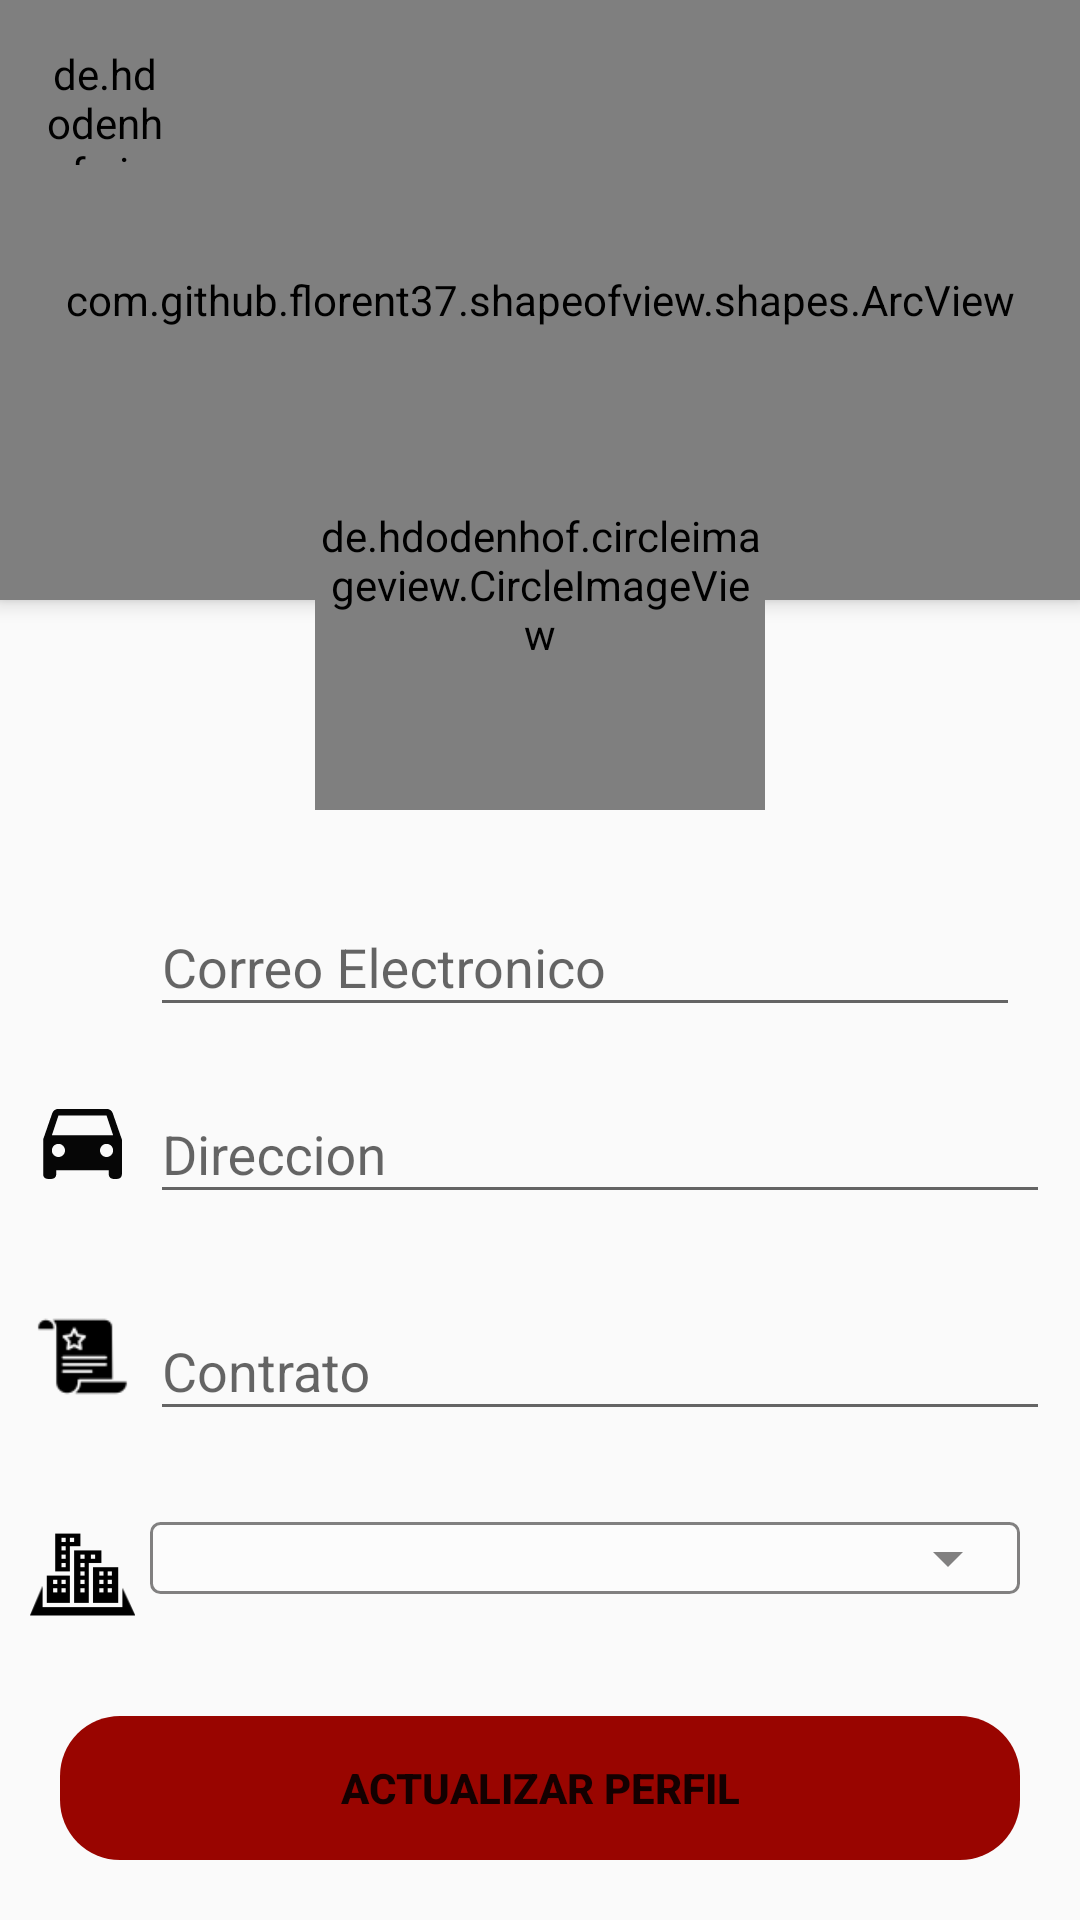

Where icons sit on this 1080*1920 app screen, as [left=x1, top=y1, right=x2, bottom=y2]:
car: [left=43, top=1109, right=122, bottom=1179]
city: [left=30, top=1533, right=135, bottom=1616]
